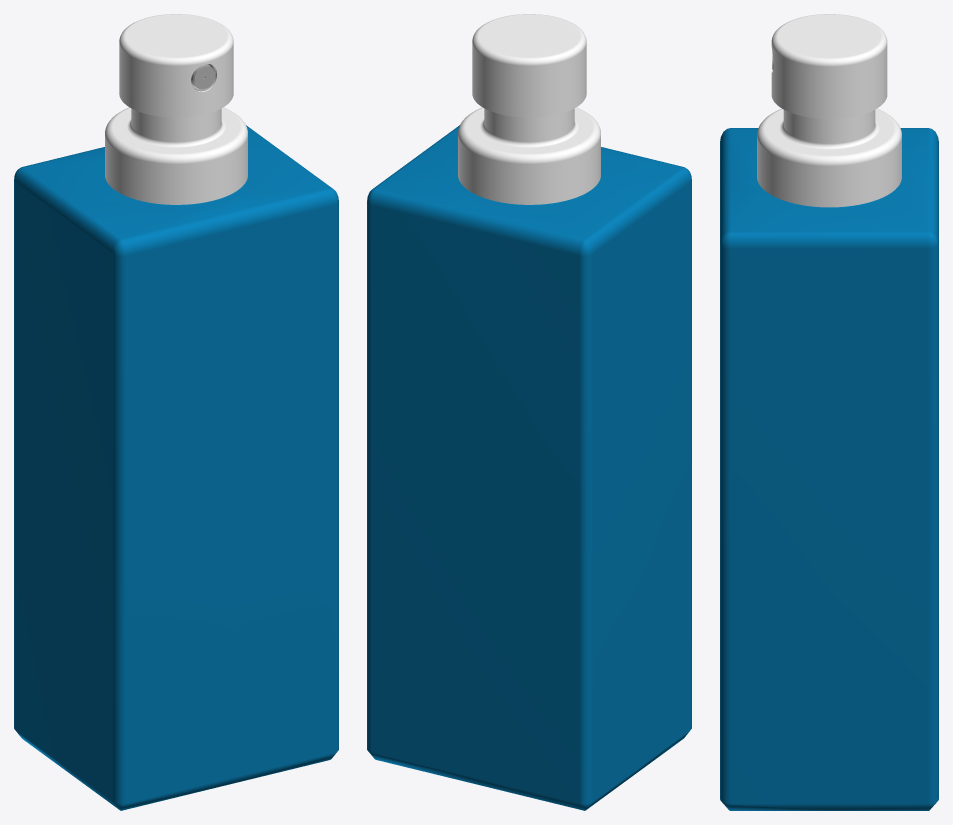
Rendered from FutureBottle_1.glb.
3 renders of one model, left to right at view 1: azimuth 30°, elevation 25°; view 2: azimuth 150°, elevation 25°; view 3: azimuth 270°, elevation 25°, orthographic.
Visible parts, largest first — view 1: Bottle_15ml, ESSENCIA_V6_Collar, _108_072_Actuator_Exterior; view 2: Bottle_15ml, ESSENCIA_V6_Collar, _108_072_Actuator_Exterior; view 3: Bottle_15ml, ESSENCIA_V6_Collar, _108_072_Actuator_Exterior.
Boxes of the visible parts, x1,y1,x2,y2 form: Bottle_15ml: (14,125,338,810); ESSENCIA_V6_Collar: (105,107,247,204); _108_072_Actuator_Exterior: (119,14,233,117); Bottle_15ml: (367,125,691,810); ESSENCIA_V6_Collar: (458,107,600,204); _108_072_Actuator_Exterior: (472,14,586,117); Bottle_15ml: (720,128,938,810); ESSENCIA_V6_Collar: (757,108,901,207); _108_072_Actuator_Exterior: (771,14,887,118).
Size of the model in its own units: 0.2951 by 0.8954 by 0.2458.
